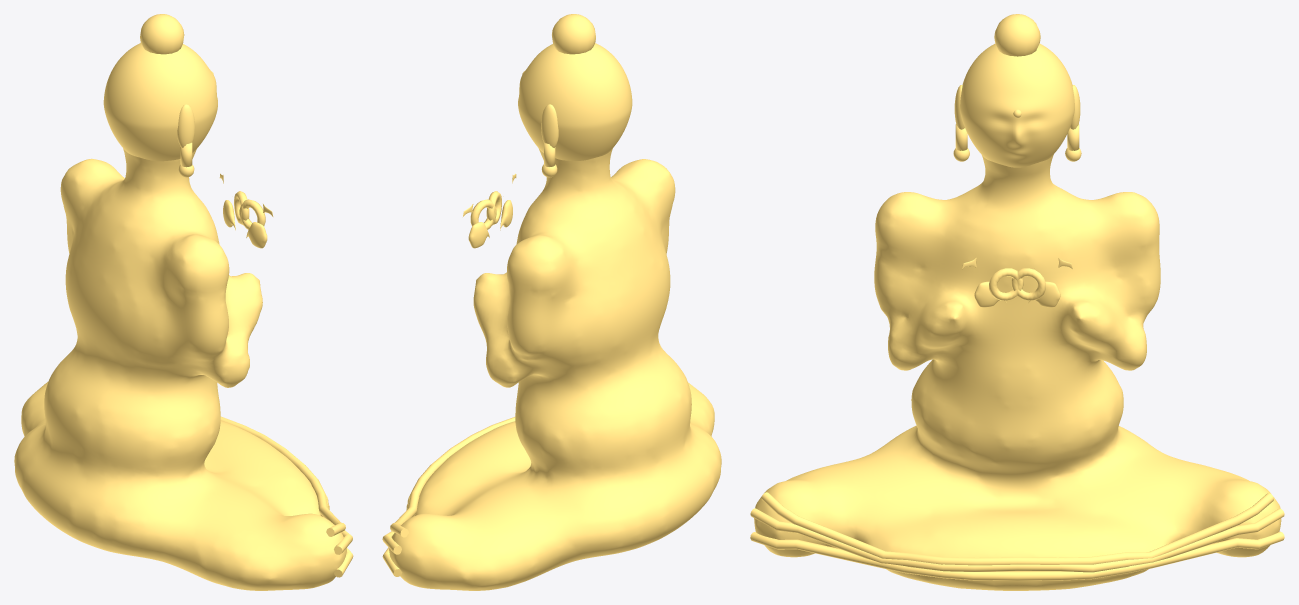
Rendered from amida_b.glb.
3 views of the same model, side by side, from view 1: azimuth 30°, elevation 25°; view 2: azimuth 150°, elevation 25°; view 3: azimuth 270°, elevation 25° (orthographic). The views are drawn at different scales.
Visible parts, largest first — view 1: body.001, Sphere, Sphere.001, trim, Sphere.003, hand_R.001; view 2: body.001, Sphere, Sphere.001, trim, Sphere.005, hand_L.001; view 3: body.001, Sphere, trim.002, trim, trim.001, Sphere.001.
Boxes of the visible parts, <box> form: body.001: <box>14,148,346,590</box>; Sphere: <box>103,43,217,161</box>; Sphere.001: <box>140,14,184,54</box>; trim: <box>220,416,345,536</box>; Sphere.003: <box>177,104,194,147</box>; hand_R.001: <box>246,204,273,248</box>; body.001: <box>389,148,721,590</box>; Sphere: <box>518,43,632,160</box>; Sphere.001: <box>552,14,595,54</box>; trim: <box>390,417,515,537</box>; Sphere.005: <box>541,104,558,147</box>; hand_L.001: <box>463,204,489,248</box>; body.001: <box>754,154,1281,590</box>; Sphere: <box>960,43,1074,167</box>; trim.002: <box>750,531,1284,580</box>; trim: <box>761,492,1273,565</box>; trim.001: <box>750,508,1284,572</box>; Sphere.001: <box>994,14,1040,56</box>.
Size of the model in its own units: 0.7892 by 1.55 by 1.43.
